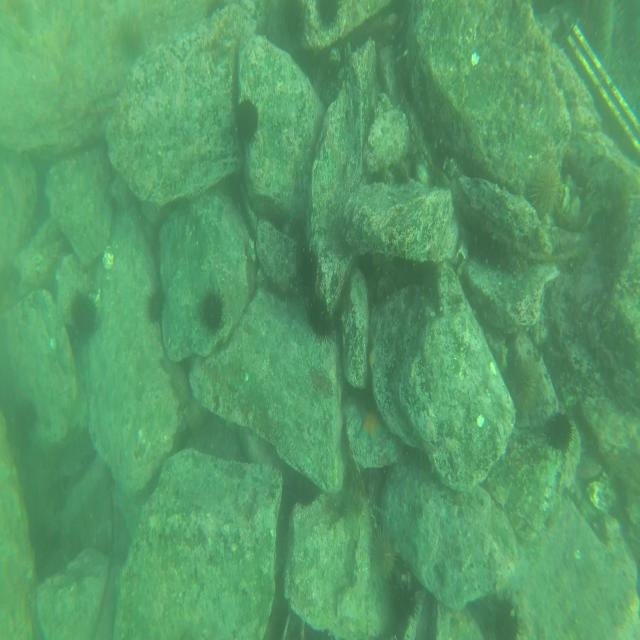echinus: (530, 154, 562, 217), (542, 404, 576, 463), (370, 526, 397, 587), (390, 573, 422, 623), (233, 92, 259, 150), (293, 242, 320, 296), (341, 486, 369, 538), (199, 288, 227, 340), (120, 13, 146, 65), (70, 290, 98, 336), (308, 296, 333, 340), (314, 0, 342, 31), (146, 284, 166, 322)
scallop: (576, 454, 618, 512)
starfish: (356, 396, 386, 451), (366, 343, 377, 371)
